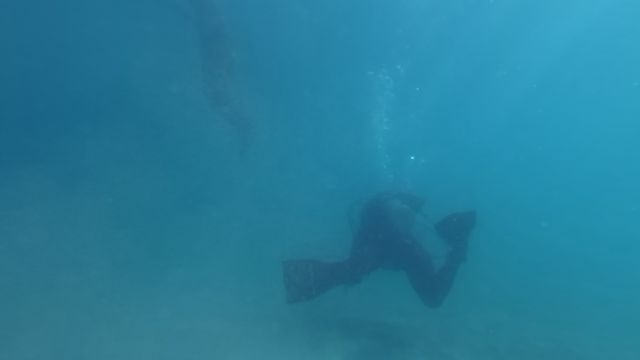Diver: (271, 161, 483, 329)
